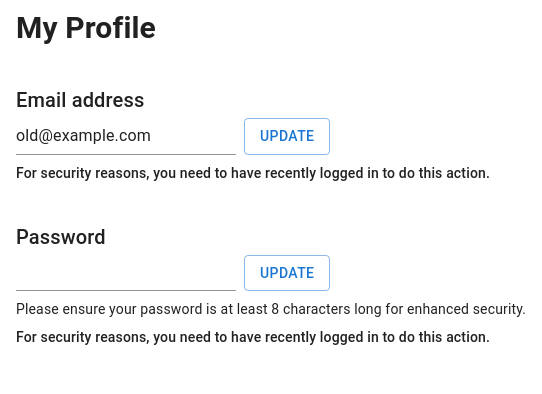
Scenario: Profile Component › updates email successfully
The image size is (542, 394).
// Simulate entering a new email
Replace the text in the field with "new@example.com": x=126, y=136 top-left (16, 120), bottom-right (236, 152)
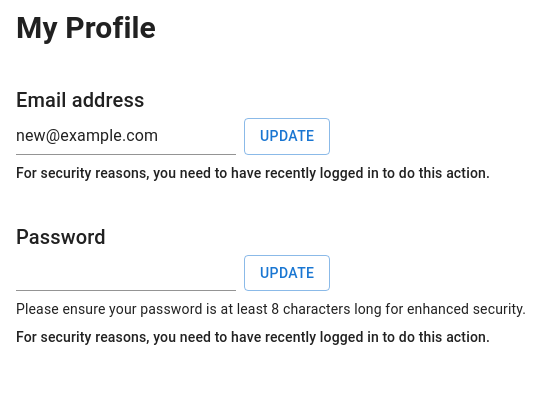
// Find and click the update button
Click the button with test id "update-email-button": x=287, y=136 top-left (244, 118), bottom-right (330, 154)
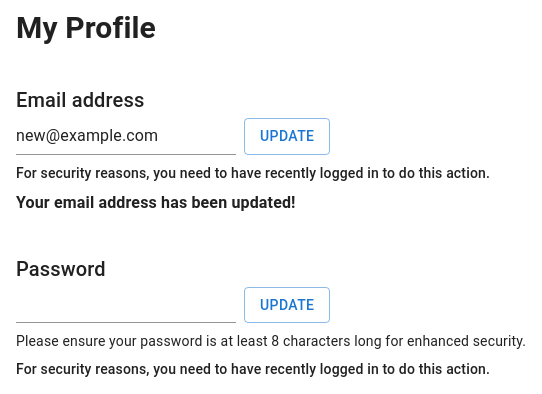
Check: the text "Your email address has been updated!" is shown, box top-left (16, 192), bottom-right (296, 212)
